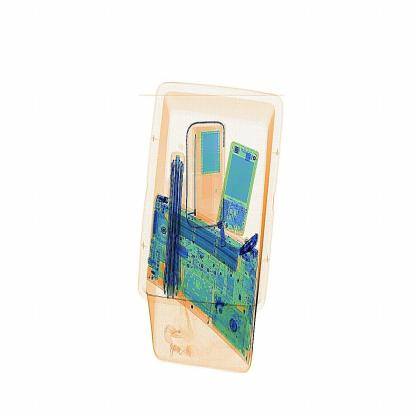knife: (237, 231, 257, 260)
